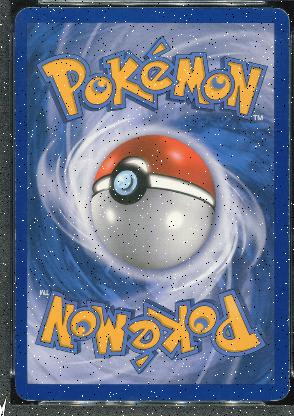Card: (12, 3, 290, 403)
Corner Wear: (267, 374, 291, 404), (15, 392, 40, 402), (15, 6, 28, 18)
Edge Wear: (13, 105, 16, 216), (194, 6, 271, 10), (287, 116, 290, 190), (14, 228, 16, 310), (286, 194, 288, 268), (14, 319, 16, 371), (97, 6, 122, 10), (286, 72, 288, 112), (286, 299, 288, 329)
Scratch: (260, 166, 279, 170), (272, 116, 281, 120), (273, 128, 278, 130)
